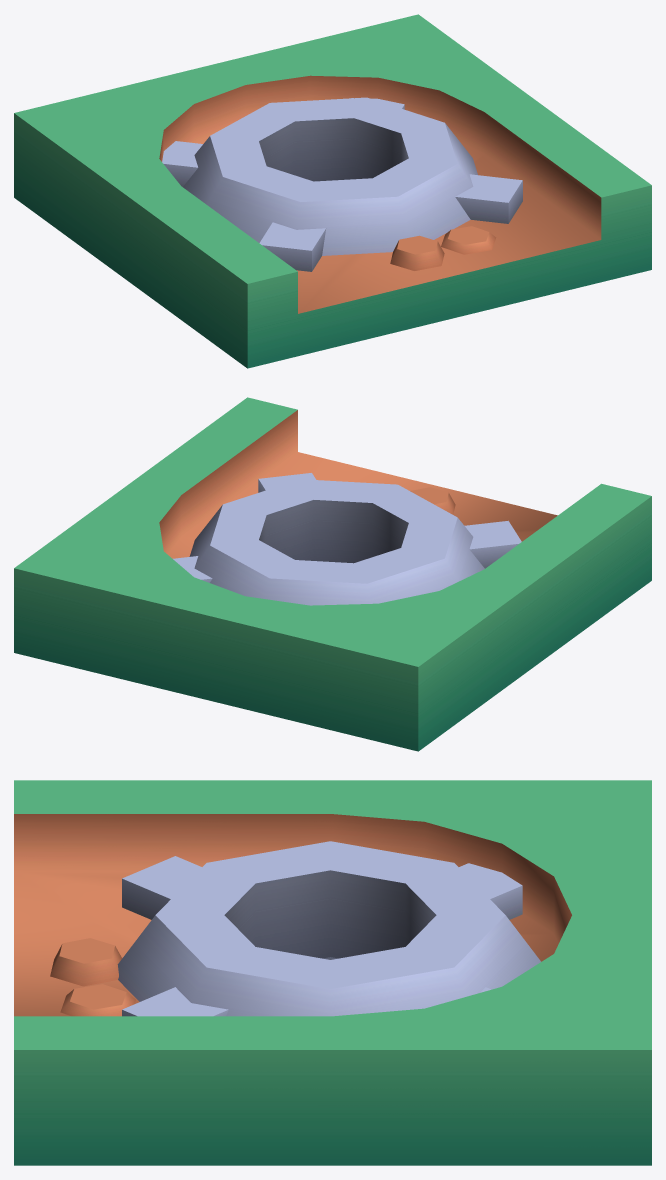
File: kenney-tower-defense-tile-spawn-end-round.glb
3 views of the same model, one above another, from view 1: azimuth 30°, elevation 25°; view 2: azimuth 150°, elevation 25°; view 3: azimuth 270°, elevation 25° (orthographic). The views are drawn at different scales.
Visible parts, largest first — view 1: tile-spawn-end-round; view 2: tile-spawn-end-round; view 3: tile-spawn-end-round.
Boxes of the visible parts, x1,y1,x2,y2 form: tile-spawn-end-round: (14, 14, 651, 368); tile-spawn-end-round: (14, 397, 651, 751); tile-spawn-end-round: (14, 780, 651, 1165).
Bounding box in the file's own units: 1 × 0.2 × 1.
1 material, 1 textured.
